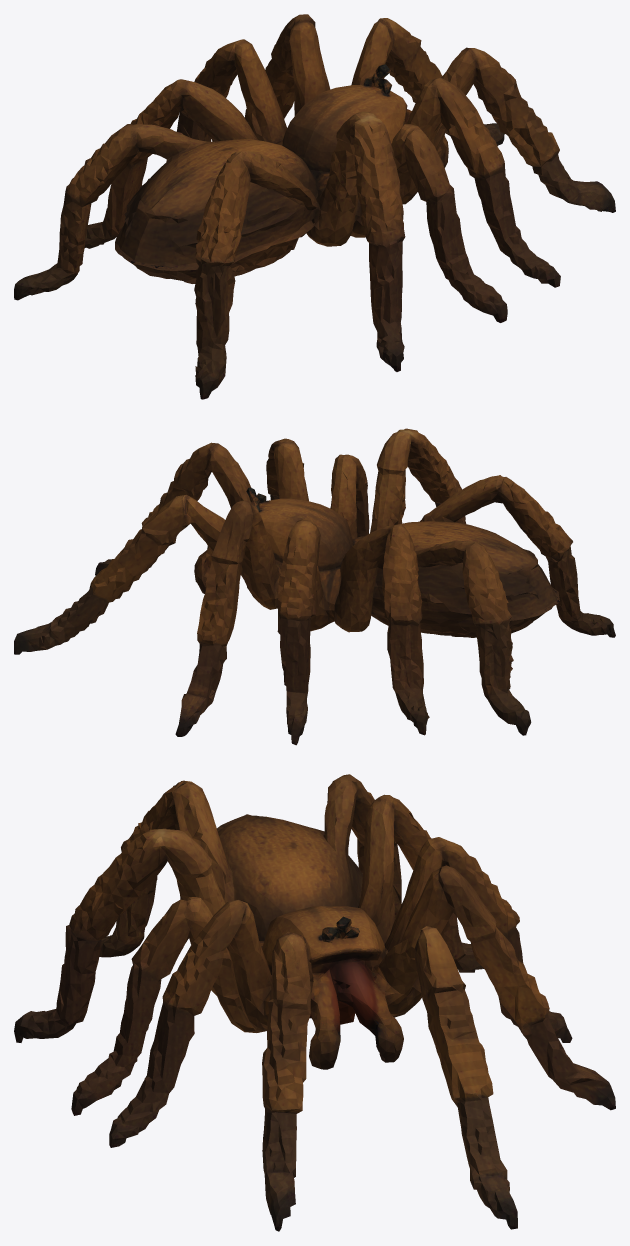
The model's file is nm__wanderingspider.glb.
3 views of the same model, one above another, from view 1: azimuth 30°, elevation 25°; view 2: azimuth 150°, elevation 25°; view 3: azimuth 270°, elevation 25° (orthographic). The views are drawn at different scales.
Visible parts, largest first — view 1: Object_4; view 2: Object_4; view 3: Object_4.
Boxes of the visible parts, x1,y1,x2,y2 form: Object_4: (14, 14, 615, 399); Object_4: (14, 428, 615, 745); Object_4: (14, 774, 615, 1231).
Size of the model in its own units: 0.9778 by 0.369 by 0.818.
Materials: 1 (1 with a texture image).
